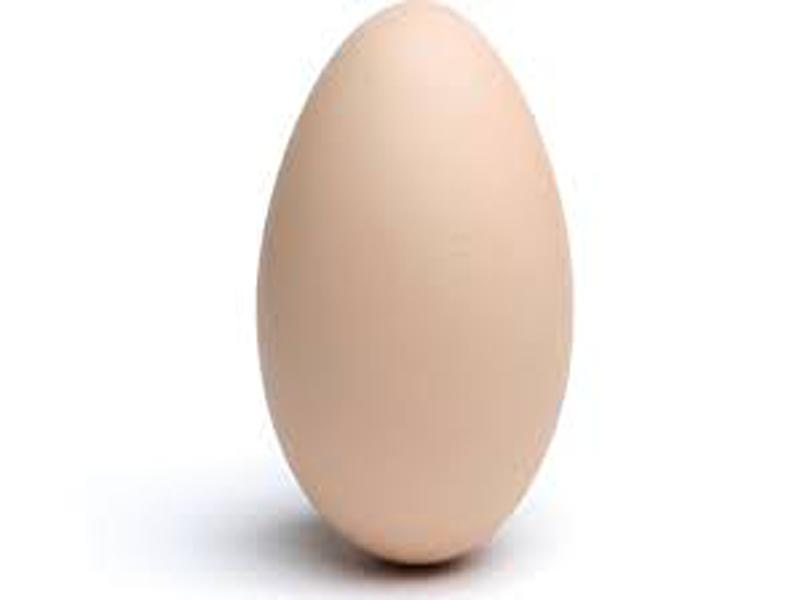Eggs: (257, 4, 573, 571)
